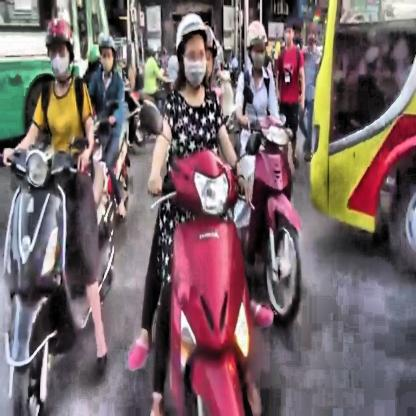not_wear: (283, 20, 295, 48)
wear: (175, 11, 208, 91), (44, 15, 74, 82), (246, 18, 268, 70), (98, 28, 116, 75)
